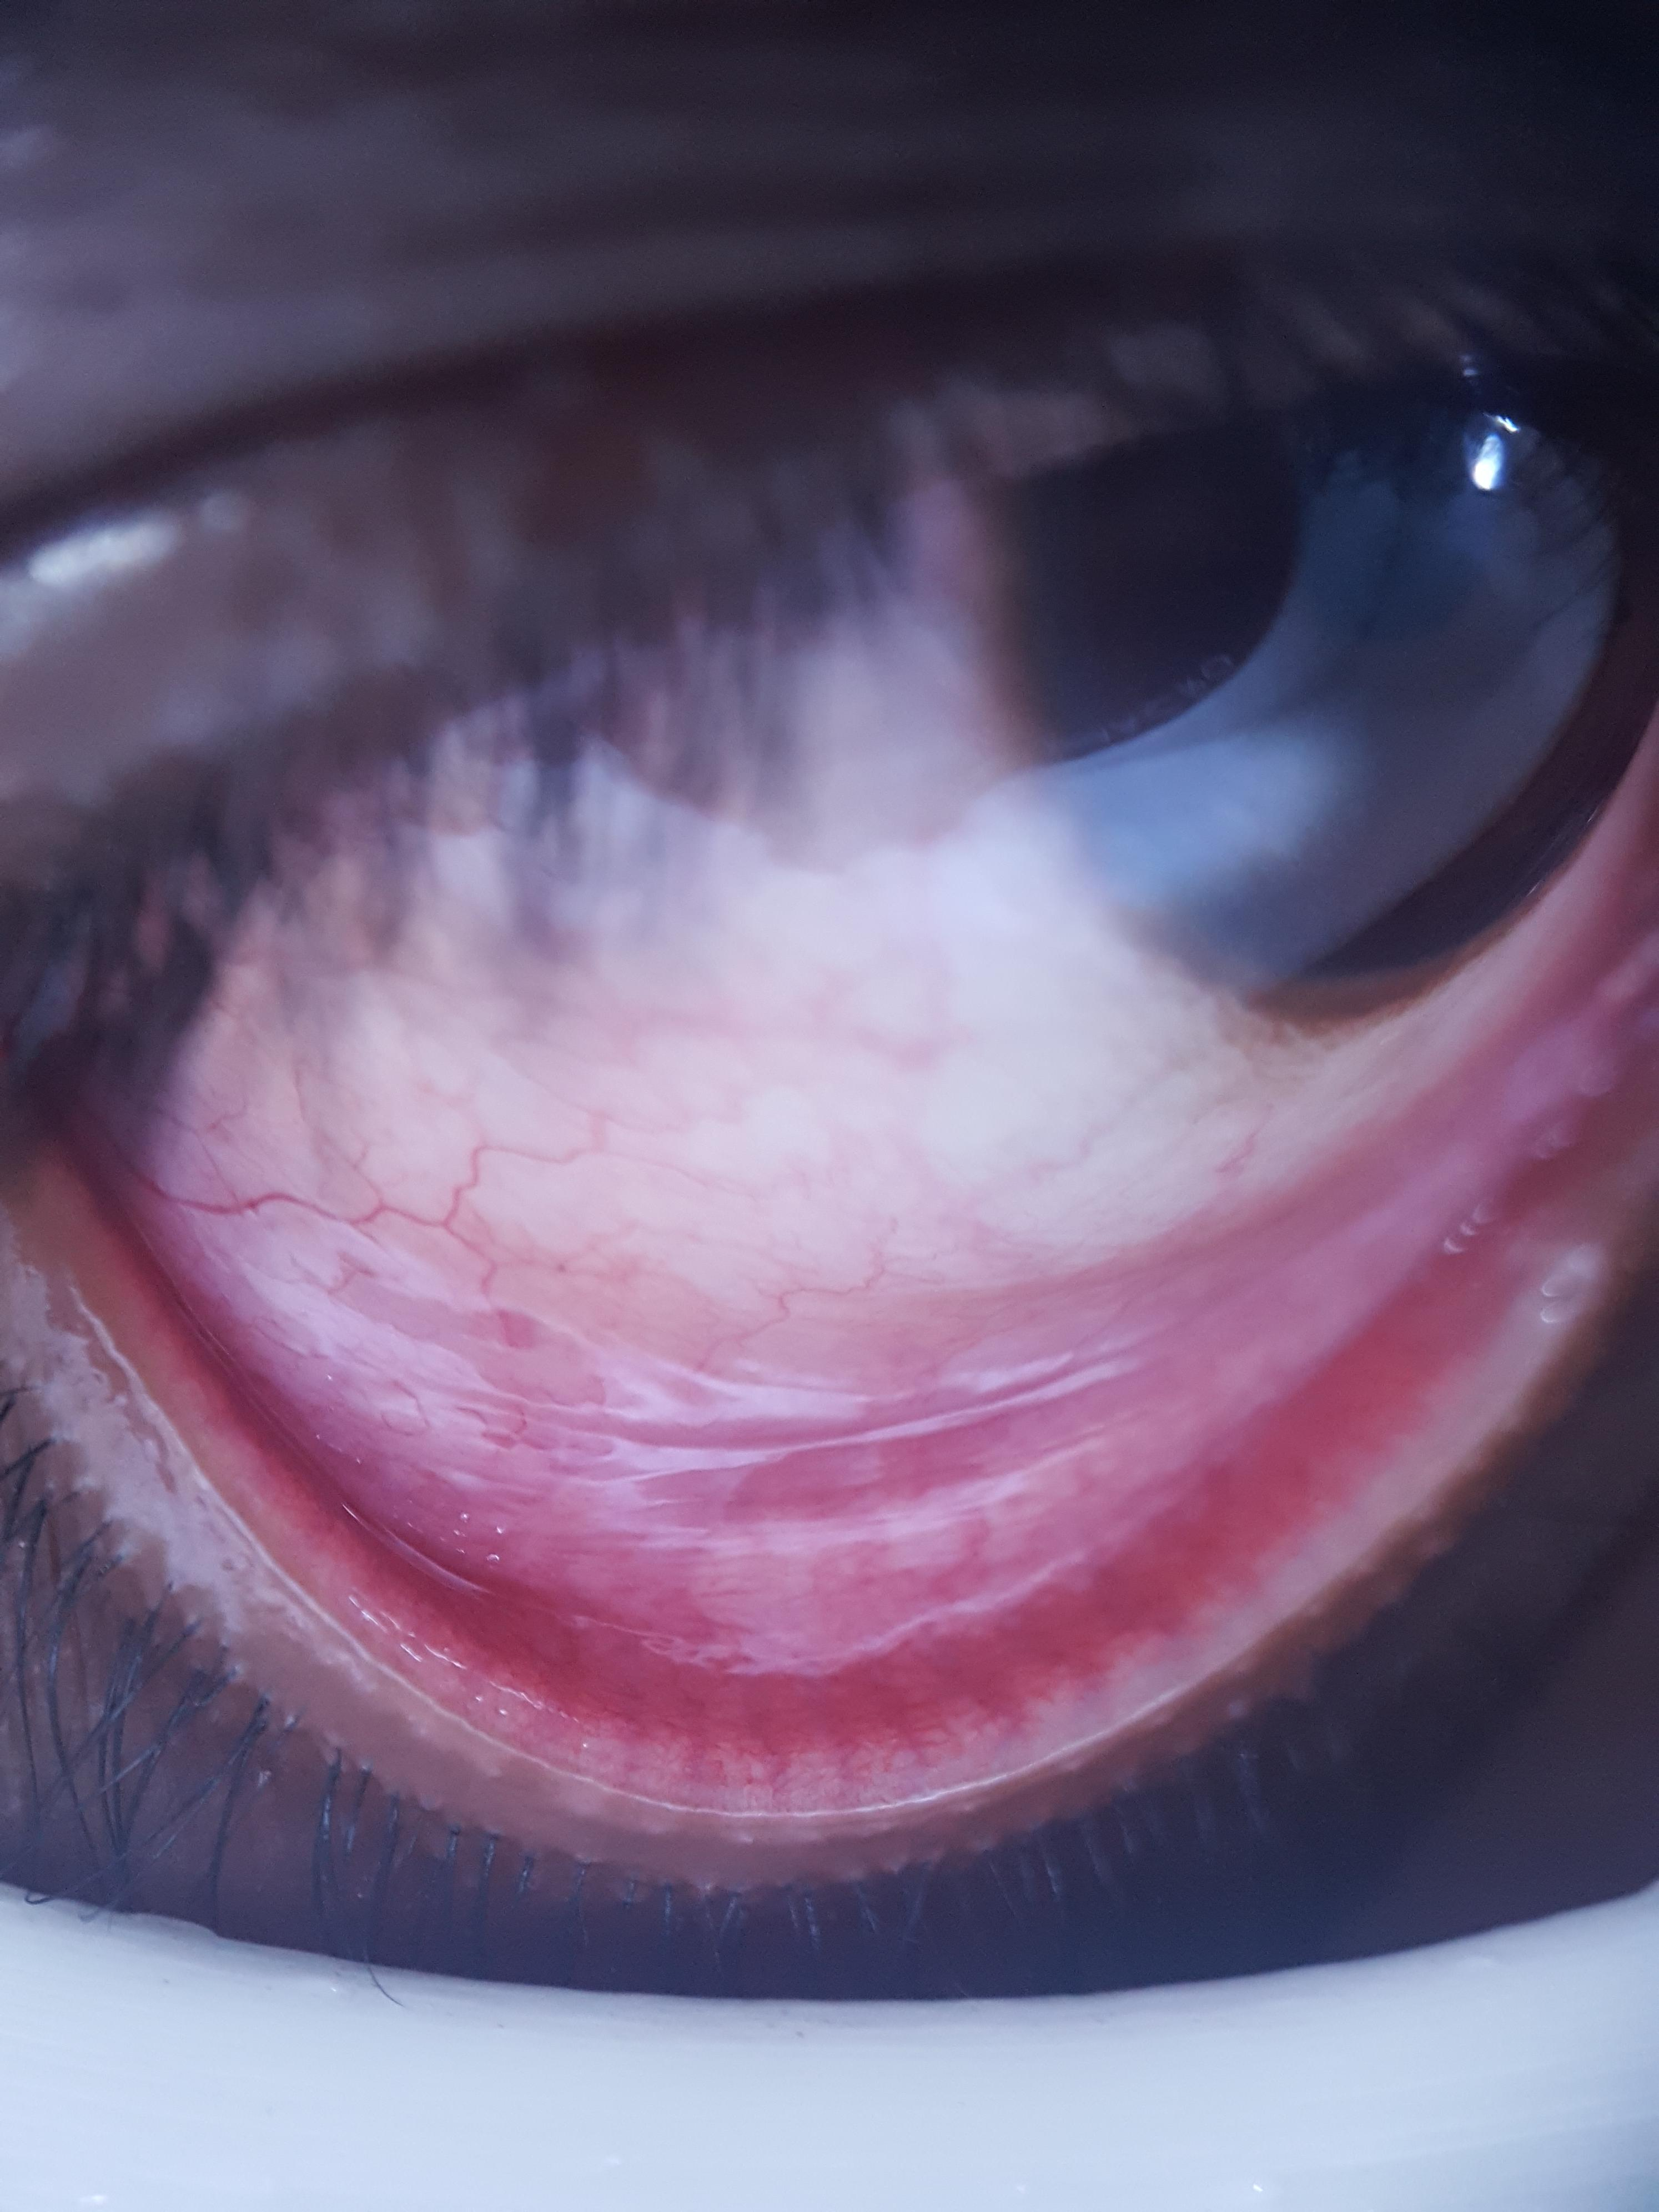forniceal: (153, 1116, 1485, 1649)
forniceal_palpebral: (98, 1109, 1570, 1782)
palpebral: (103, 1205, 1563, 1777)
